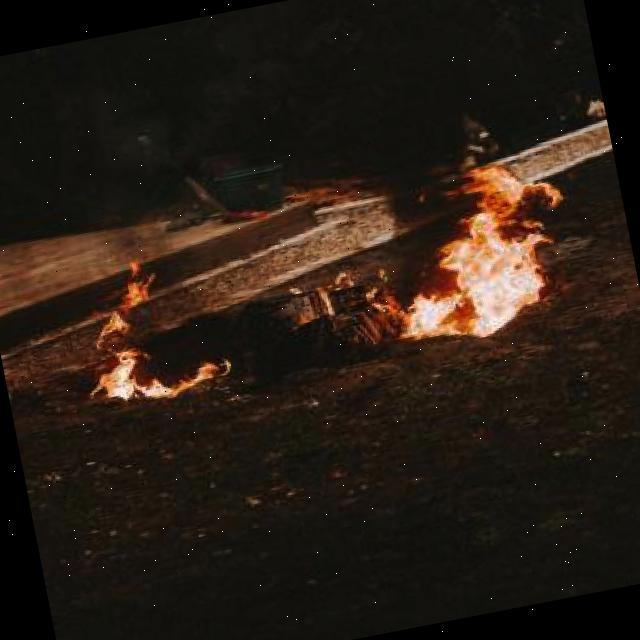fire: (49, 258, 242, 424), (395, 206, 553, 350)
